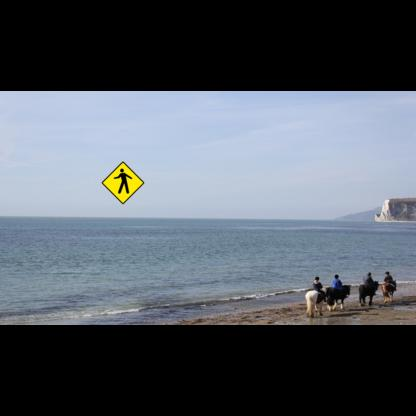A-32a: (101, 161, 144, 204)
